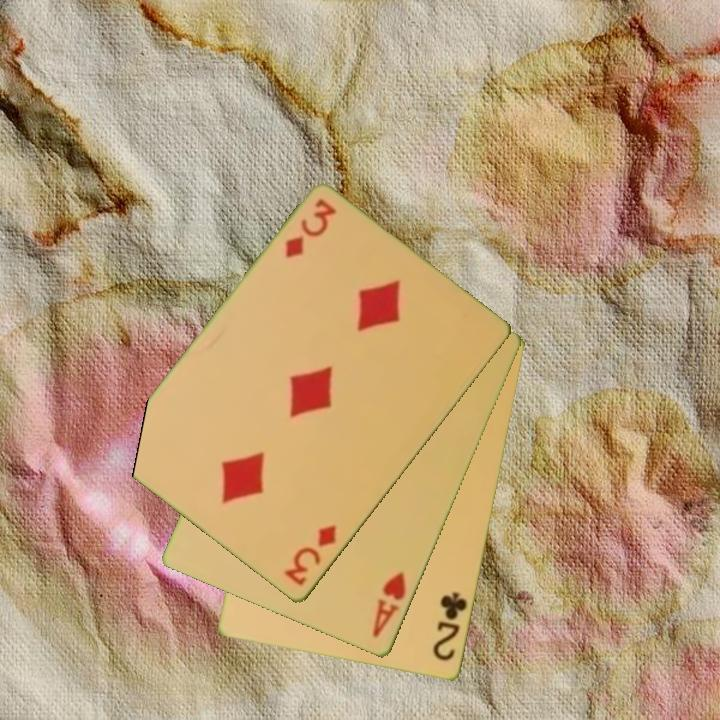2c: (430, 589, 471, 665)
3d: (280, 522, 340, 590), (281, 195, 340, 263)
Ah: (369, 568, 409, 641)
